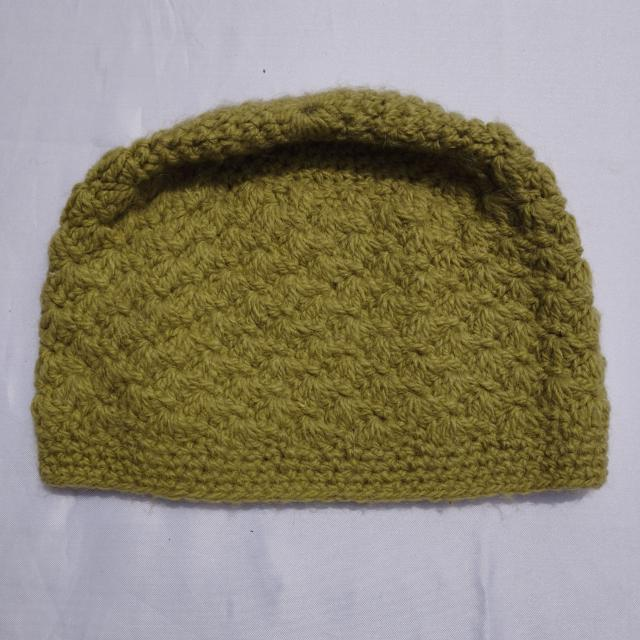Gorro: (31, 85, 612, 505)
